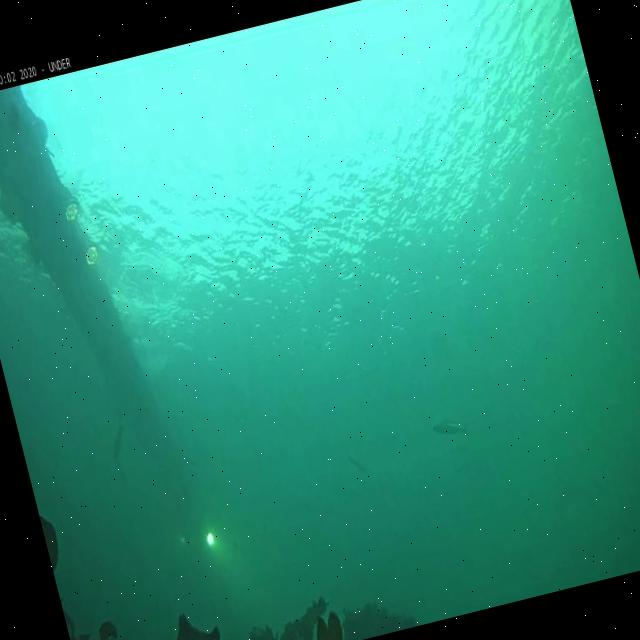fish: (102, 408, 132, 459), (431, 412, 472, 448), (345, 447, 369, 479)
